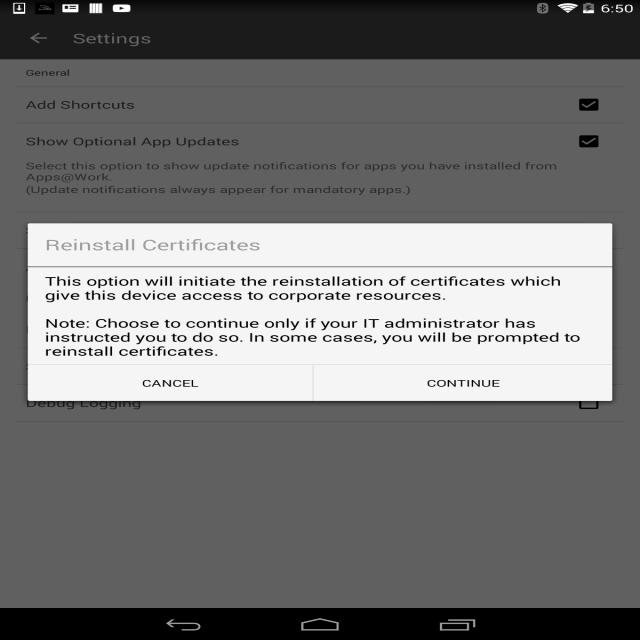CheckBox: (570, 130, 606, 150), (576, 95, 605, 114)
ImageButton: (19, 161, 564, 196), (22, 132, 255, 150), (19, 97, 152, 112), (21, 29, 52, 49)
TextView: (41, 316, 594, 360), (41, 272, 570, 305), (38, 235, 268, 257), (419, 372, 516, 393), (68, 29, 158, 48), (133, 376, 212, 390)
